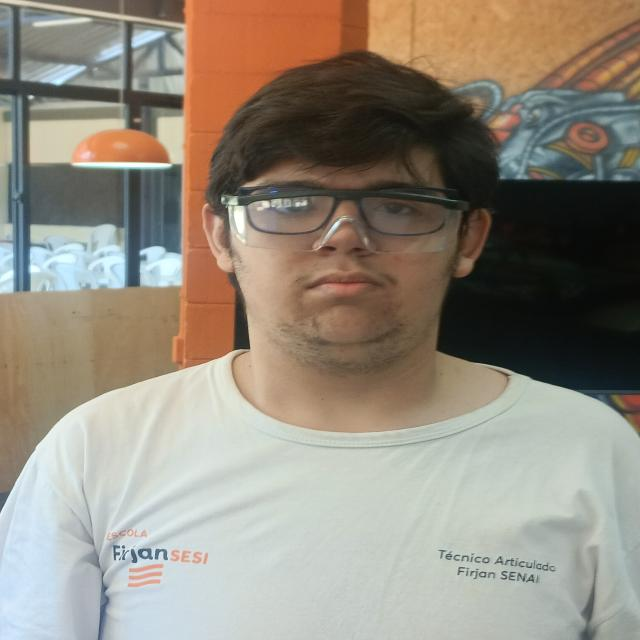oculos-epi: (220, 189, 467, 255)
